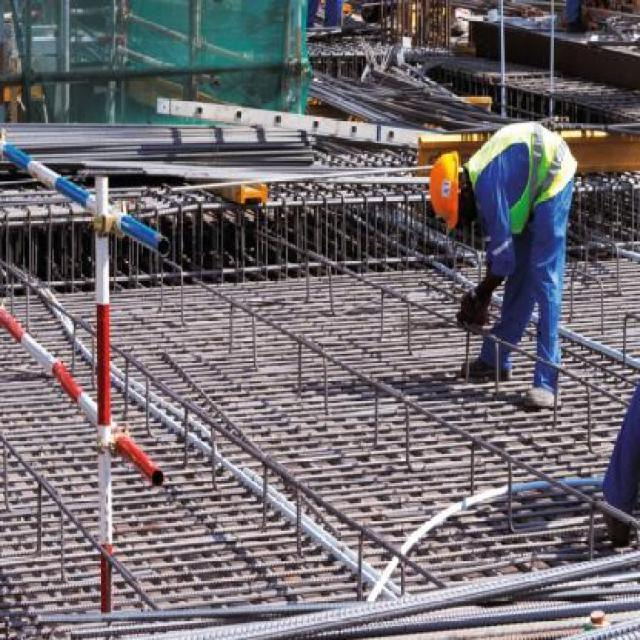helmet: (432, 148, 460, 234)
vest: (466, 125, 582, 242)
